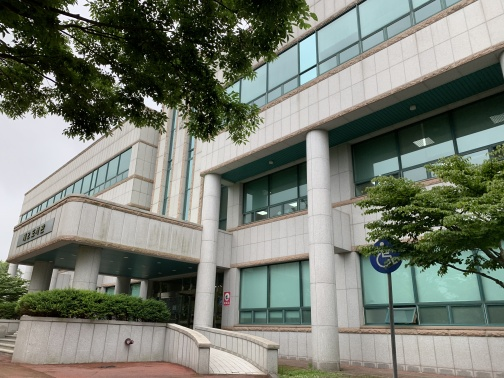Second Library: (209, 54, 470, 355), (6, 125, 266, 361)
